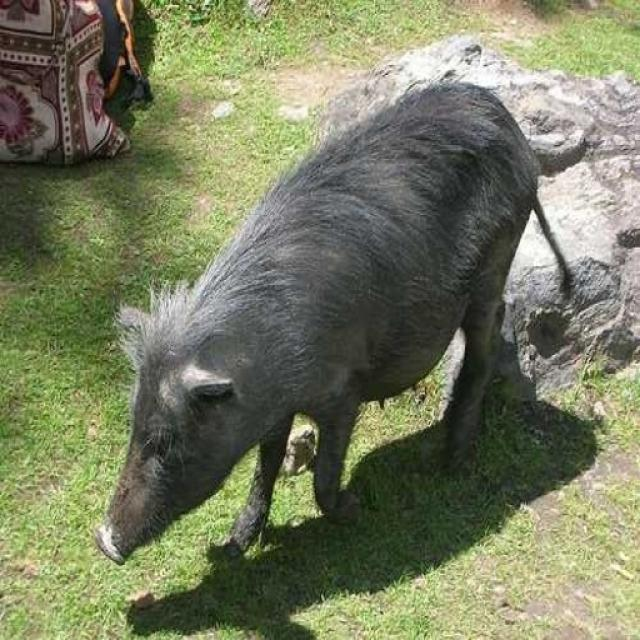pig: (50, 83, 612, 593)
